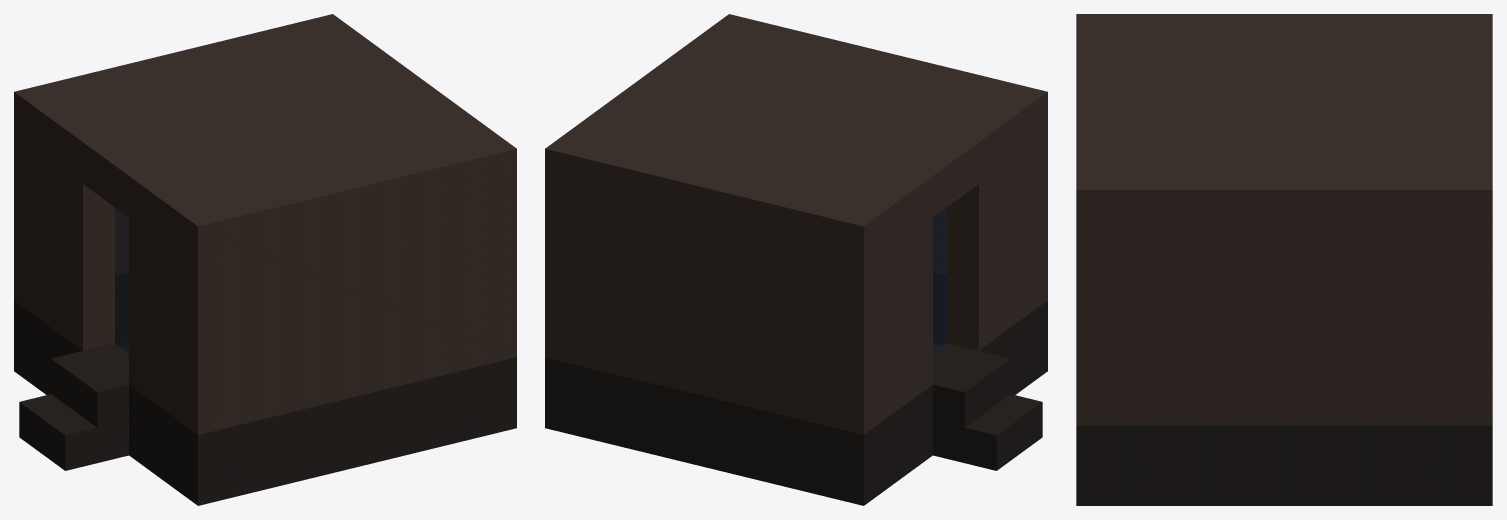
The model's file is modularBuildings_027.obj.
The picture shows the model from 3 angles, left to right: view 1: azimuth 30°, elevation 25°; view 2: azimuth 150°, elevation 25°; view 3: azimuth 270°, elevation 25°; orthographic projection. The views are drawn at different scales.
Visible parts, largest first — view 1: Mesh1 Group1 Model; view 2: Mesh1 Group1 Model; view 3: Mesh1 Group1 Model.
Part boxes in pixels (x1,y1,x2,y2): Mesh1 Group1 Model: (14, 14, 516, 505); Mesh1 Group1 Model: (545, 14, 1047, 505); Mesh1 Group1 Model: (1076, 14, 1492, 505).
Bounding box in the file's own units: 1.2 × 0.8375 × 1.
3 materials, 3 textured.
